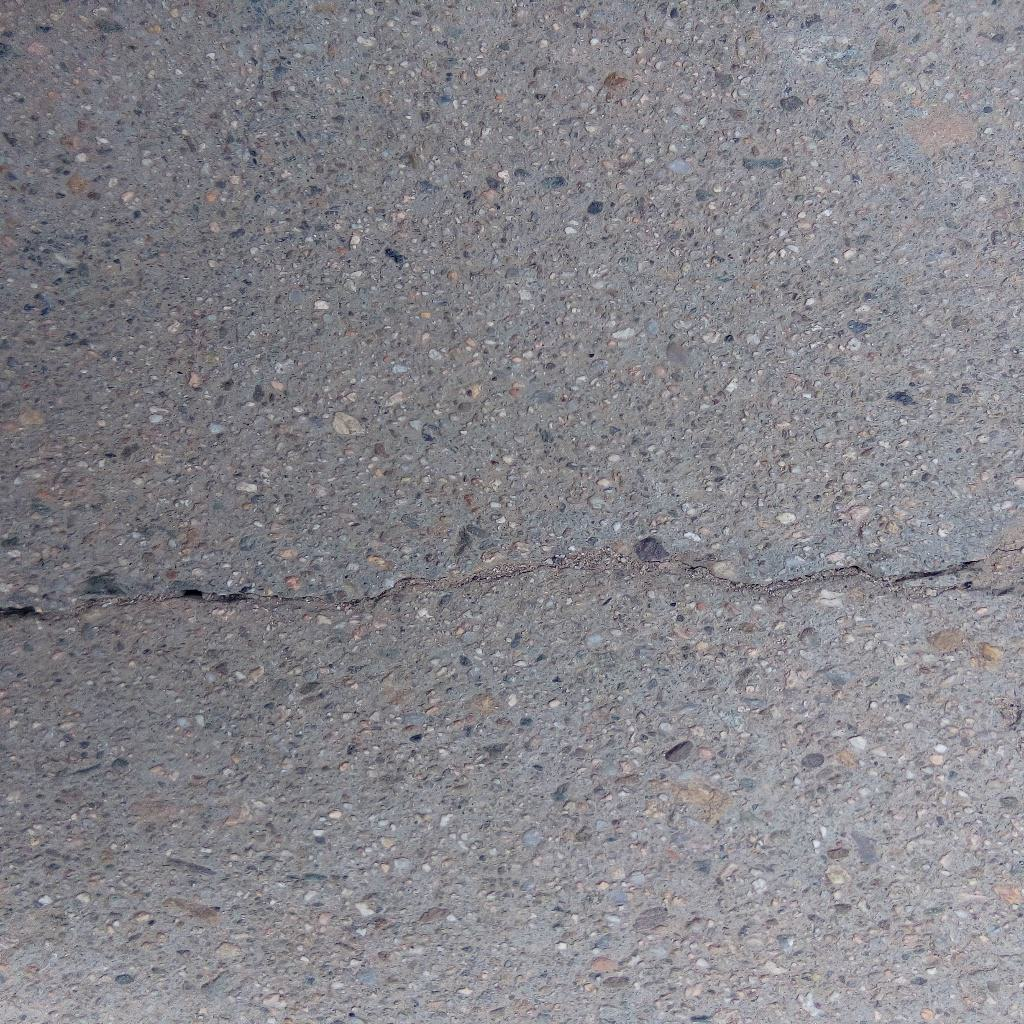Crack: (1, 546, 1024, 625)
